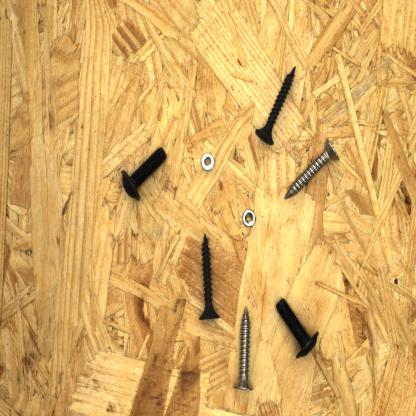screw: (280, 135, 342, 203), (254, 63, 300, 147), (274, 294, 321, 362), (118, 145, 168, 202), (195, 232, 223, 324), (232, 302, 256, 394)
